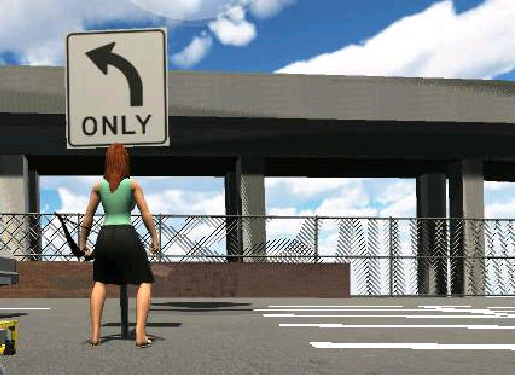arrow_left: (82, 40, 151, 110)
